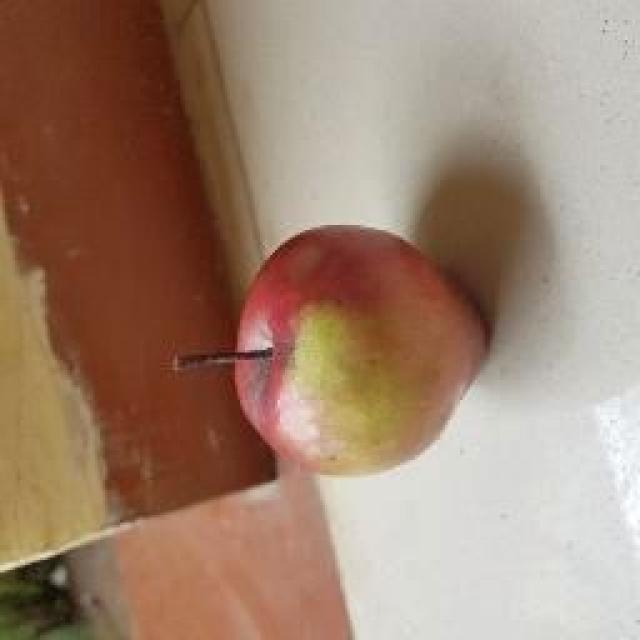Good_Apple: (178, 225, 490, 480)
